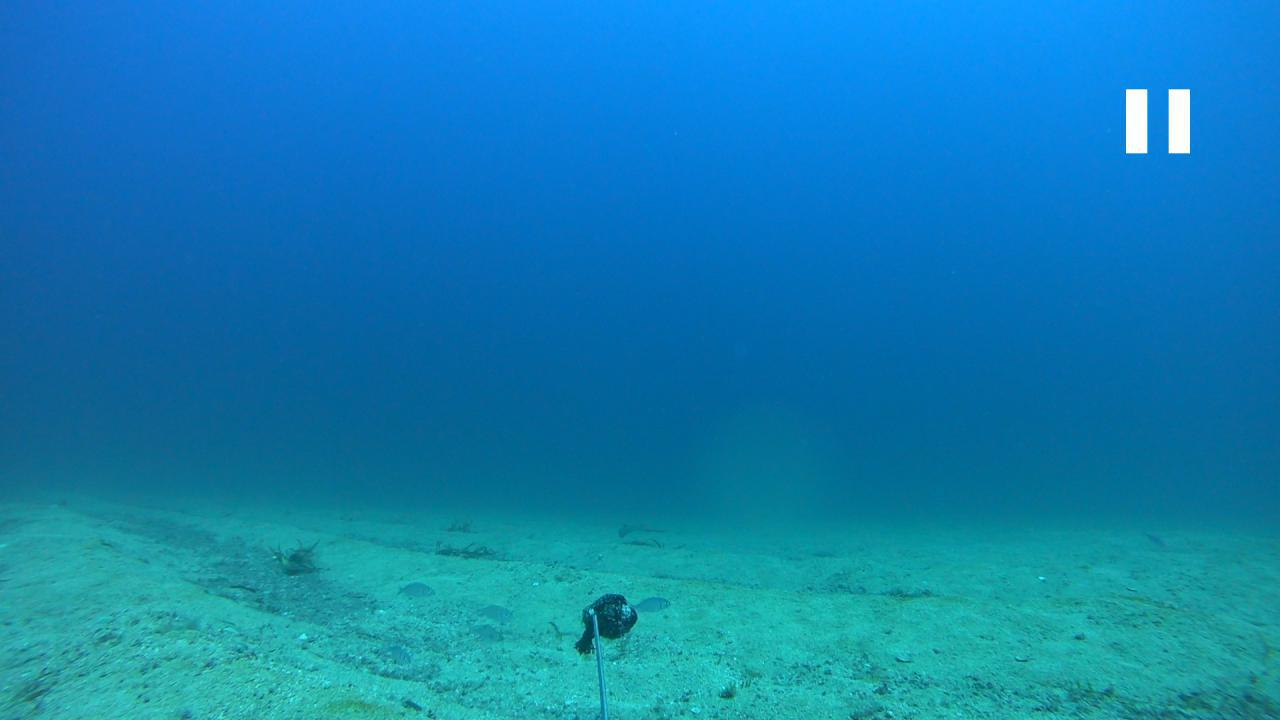dasyatis: (614, 520, 666, 537)
pagellus: (628, 593, 675, 617), (472, 602, 514, 624), (377, 640, 411, 666), (468, 624, 507, 642), (395, 582, 438, 598)
